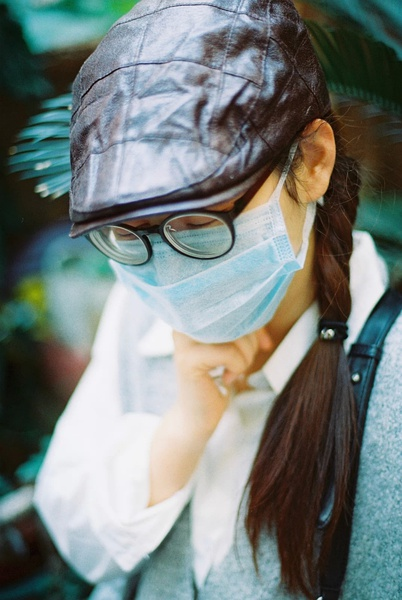face_mask: (106, 163, 300, 338)
